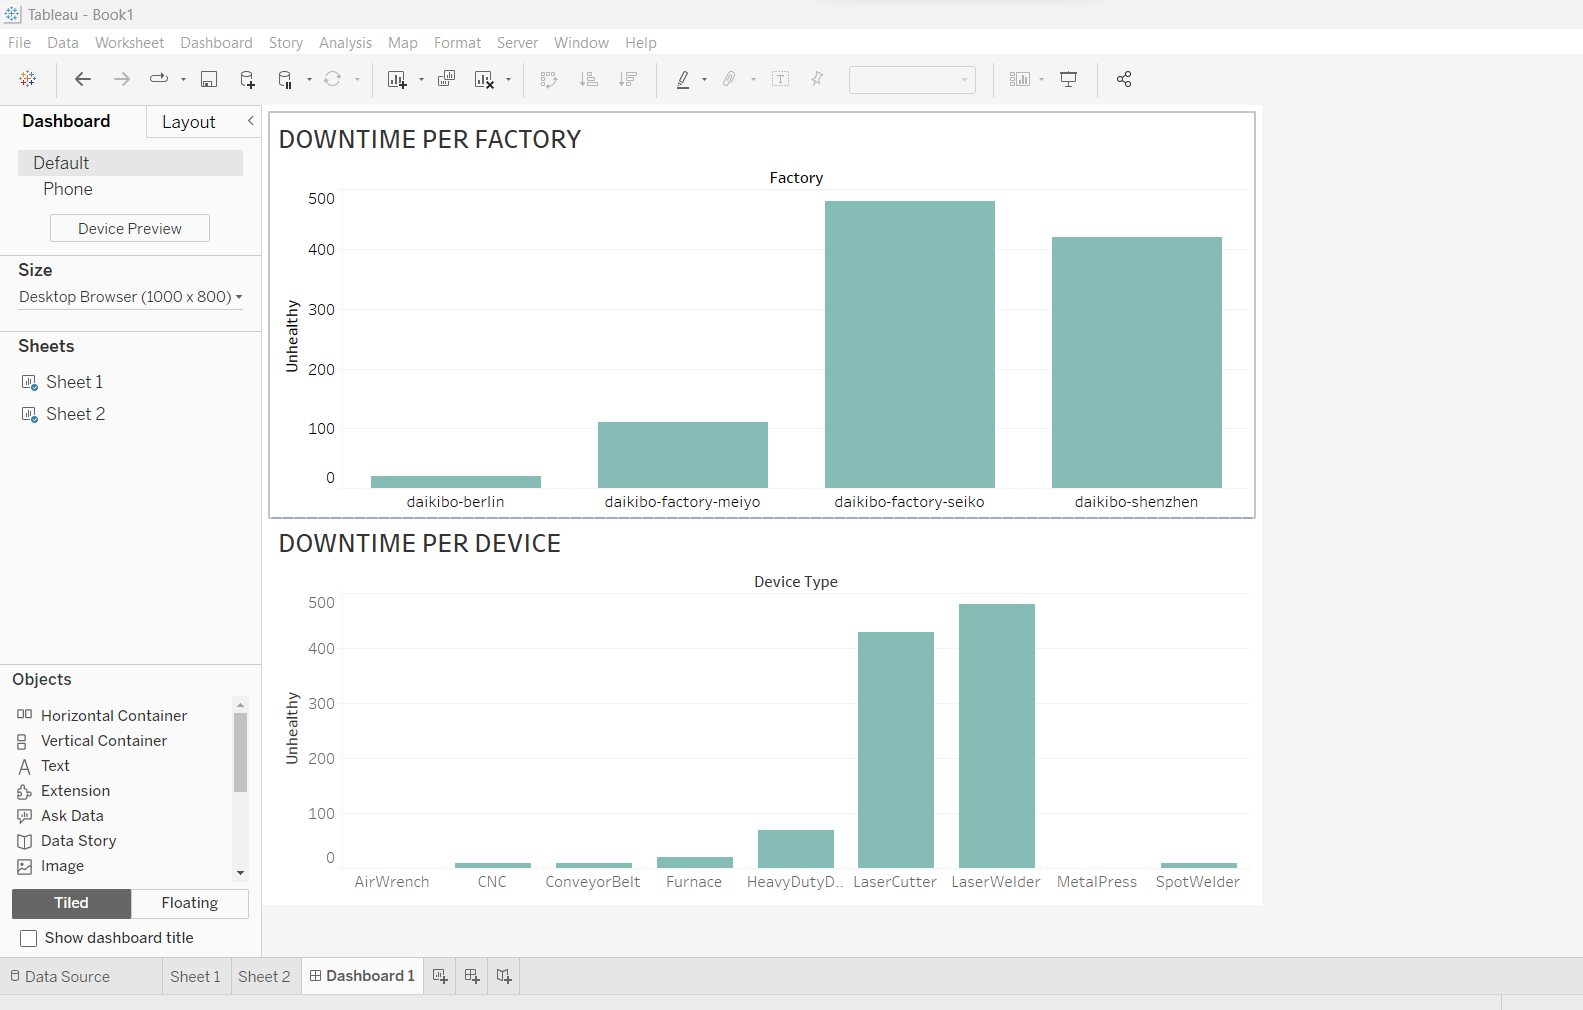

This screenshot's page, from the dashboard's own definition file:
{"tool":"tableau","page":{"name":"Dashboard 1","canvas":[1000,800],"ordinal":0},"visuals":[{"type":"worksheet","title":"Sheet 1","mark":"Automatic","rows":["Calculation_2538059912631091200"],"cols":["factory"],"box":[8,8,984,404]},{"type":"worksheet","title":"Sheet 2","mark":"Automatic","rows":["Calculation_2538059912631091200"],"cols":["deviceType"],"box":[8,412,984,380]}]}

Visuals, with their boxes on the page's 1000x800 design canvas (x1, y1, x2, y2). These are canvas units, not pixel positions in the 1583x1010 screenshot, which may show the page scaled, cropped or inside an application window:
"Sheet 1" worksheet: 8 8 992 412
"Sheet 2" worksheet: 8 412 992 792
